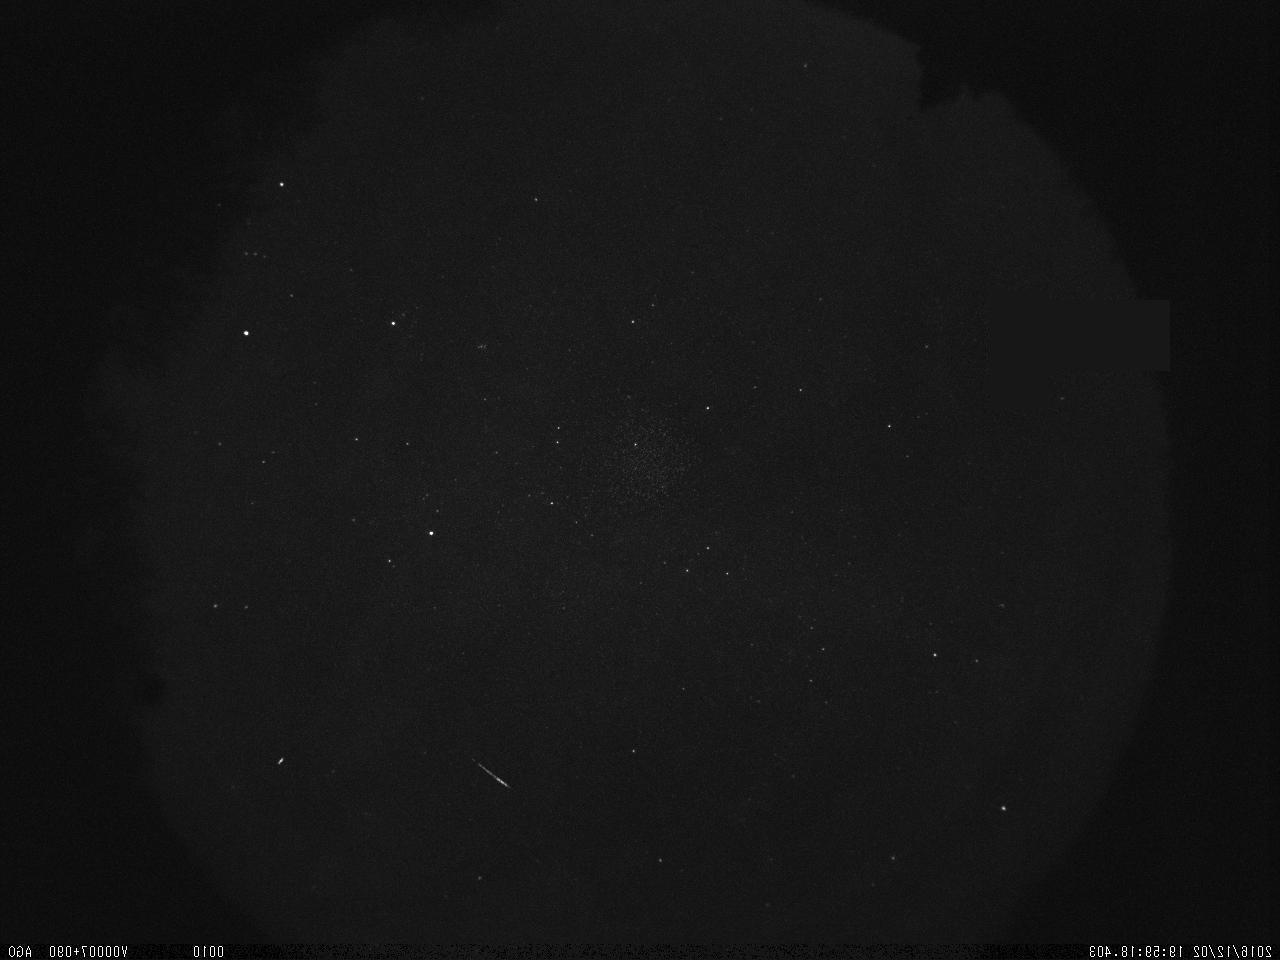meteor: (468, 760, 520, 792)
